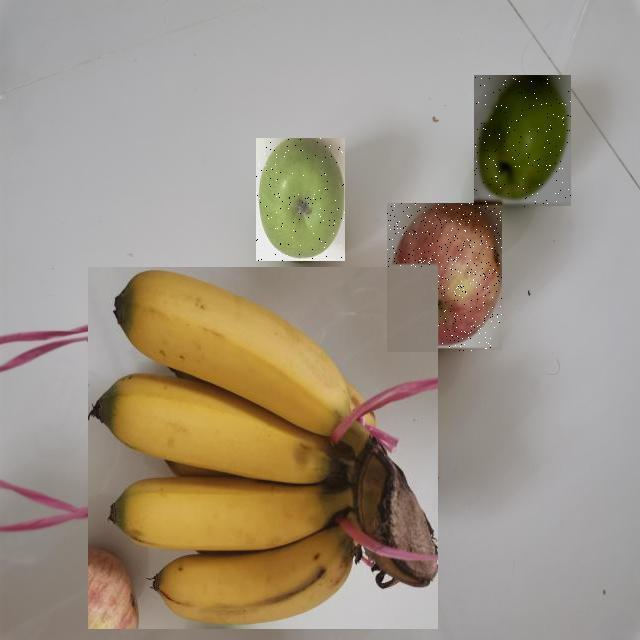Apple: (387, 204, 502, 352), (474, 76, 571, 208), (256, 138, 345, 261)
Banana: (88, 267, 438, 629)
